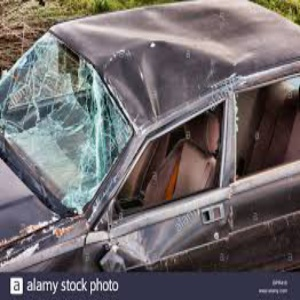front_windshield_glass: (9, 70, 112, 188)
